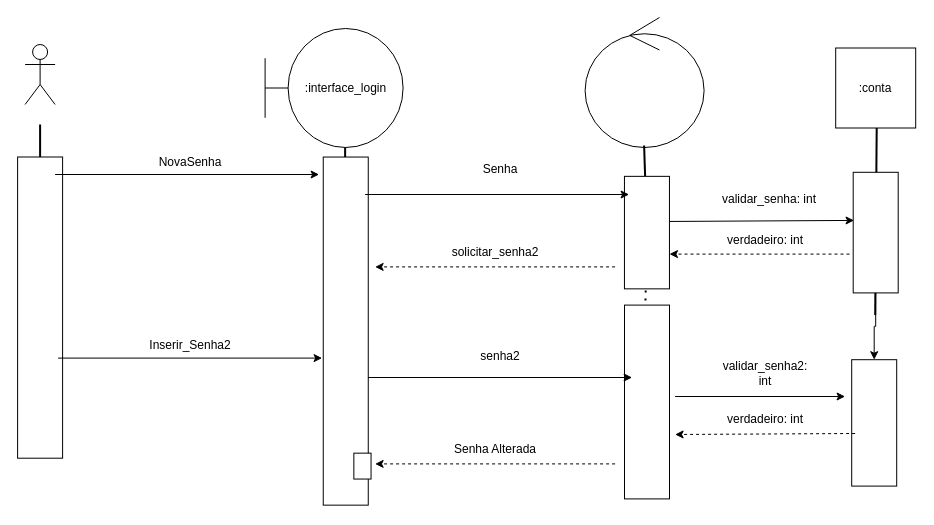
Some shapes in this 934 by 525 pixel diagram are drawn without their labels. Here are the shapes that lost their labels. From the top down, the centre of each, then its label:
At point (39, 74): "usuario".
At point (644, 82): ":controle_banco".
